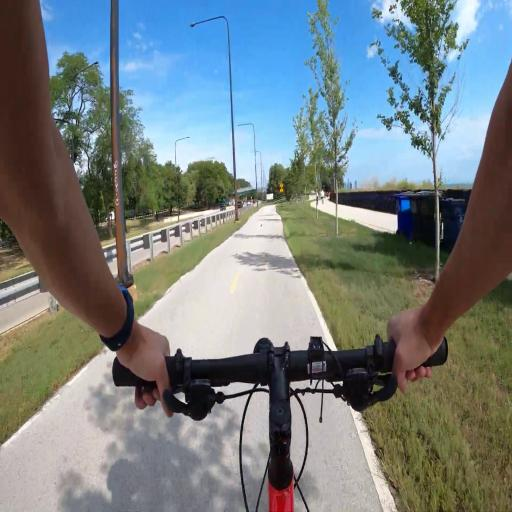Street_Light: (188, 11, 242, 229), (237, 120, 257, 197), (172, 132, 193, 171), (172, 132, 194, 163), (252, 150, 264, 191)
